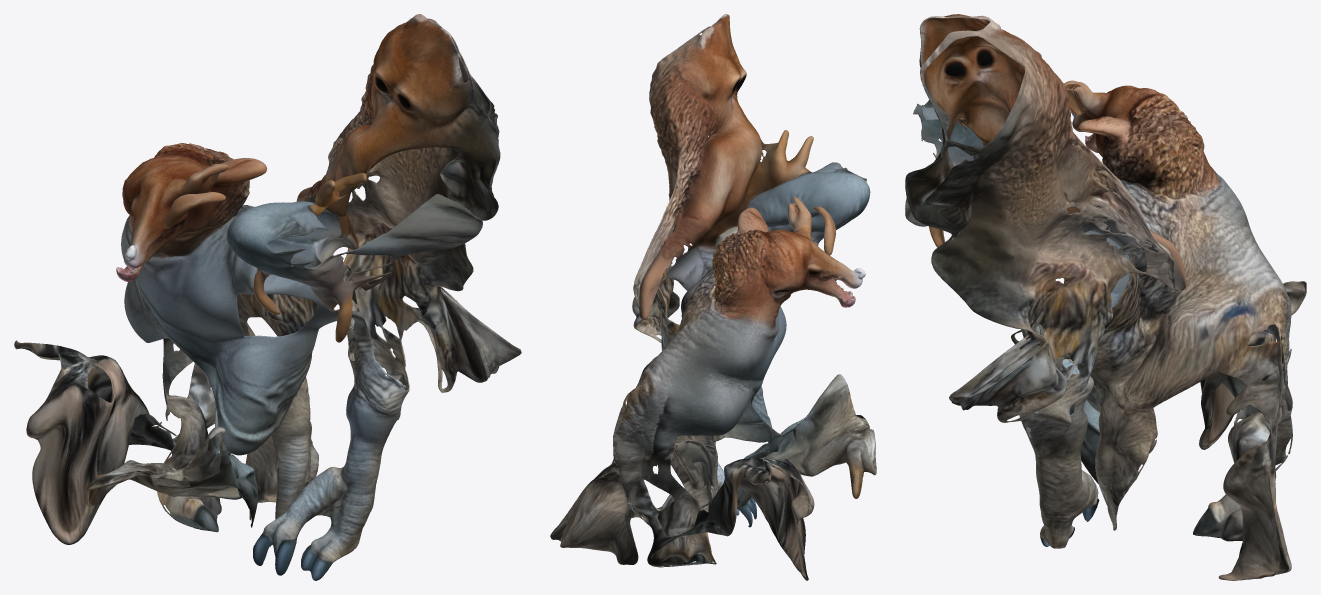
File: finished-chimera-low.glb
The picture shows the model from 3 angles, left to right: view 1: azimuth 30°, elevation 25°; view 2: azimuth 150°, elevation 25°; view 3: azimuth 270°, elevation 25°; orthographic projection. The views are drawn at different scales.
Visible parts, largest first — view 1: geometry_0; view 2: geometry_0; view 3: geometry_0.
Boxes of the visible parts, left/top/right/bottom form: geometry_0: left=14, top=14, right=521, bottom=580; geometry_0: left=550, top=14, right=876, bottom=580; geometry_0: left=905, top=14, right=1306, bottom=580.
Bounding box in the file's own units: 0.6518 × 0.9995 × 0.6396.
1 material, 1 textured.
